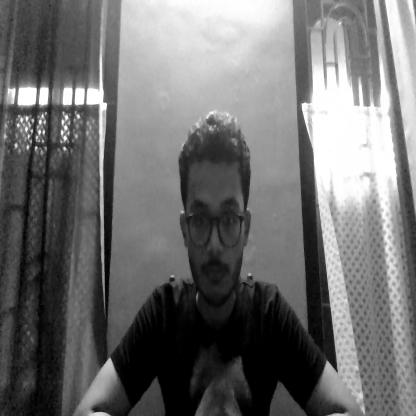Normal: (176, 101, 251, 310)
